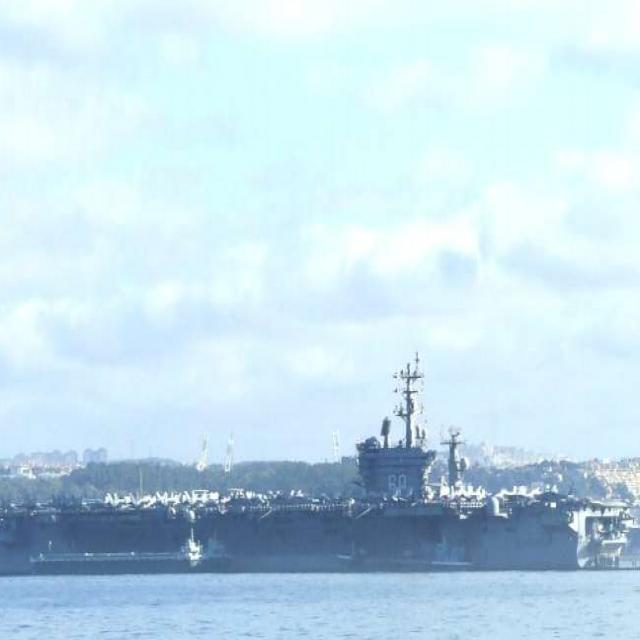Portanaves: (1, 352, 639, 581)
